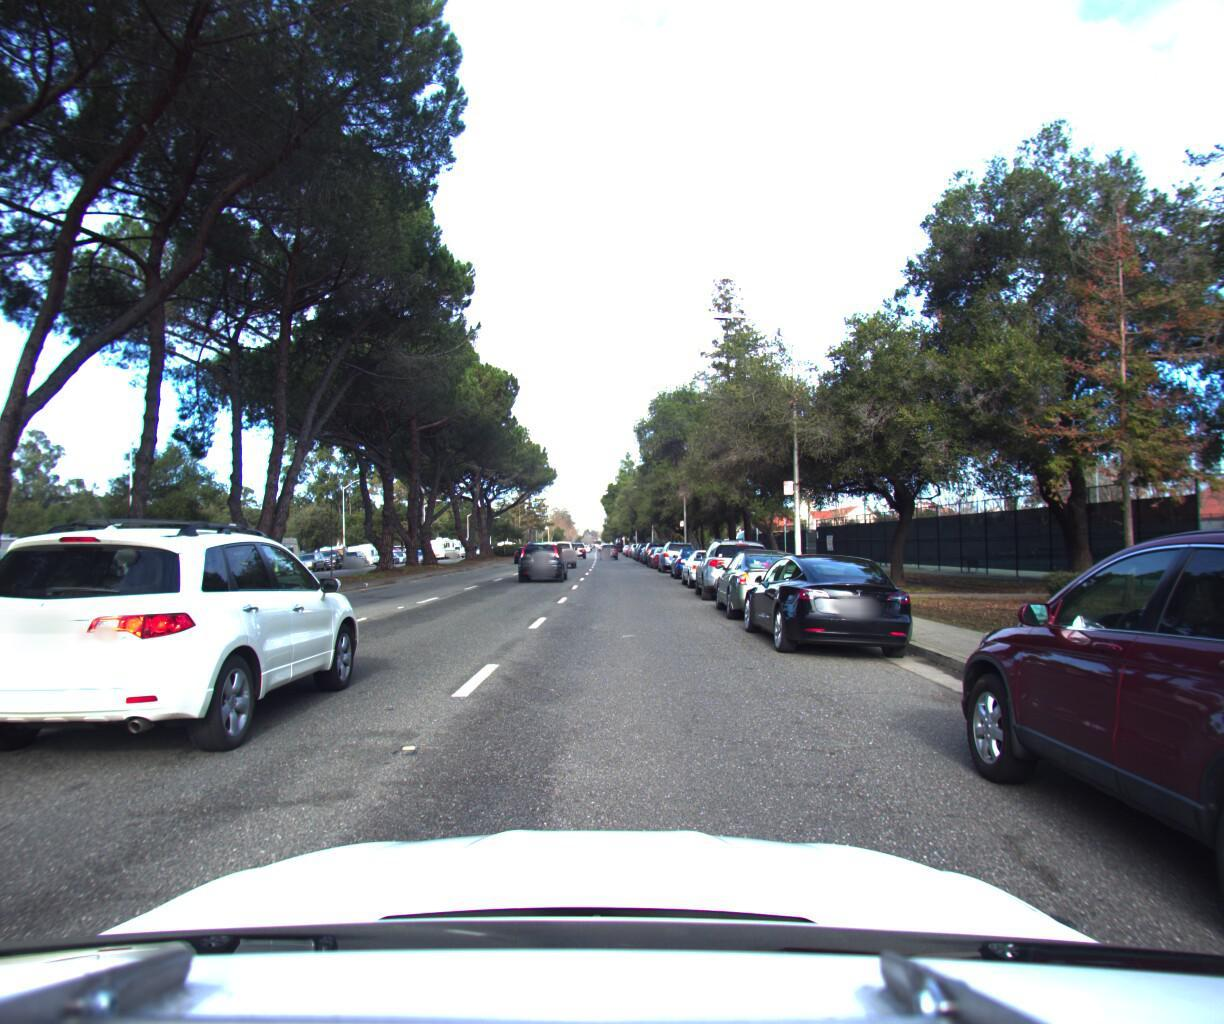car: (921, 488, 1224, 1024), (0, 495, 379, 789), (738, 536, 933, 667), (708, 535, 829, 621), (690, 527, 780, 600), (679, 536, 743, 585), (515, 530, 570, 579), (669, 536, 716, 573), (657, 529, 699, 567), (308, 535, 357, 565), (649, 535, 686, 563), (548, 529, 583, 559), (293, 544, 332, 567), (641, 530, 672, 556), (340, 541, 371, 562), (571, 531, 591, 550), (599, 534, 618, 551)
other_vehicle: (232, 523, 308, 571), (0, 523, 40, 611)
